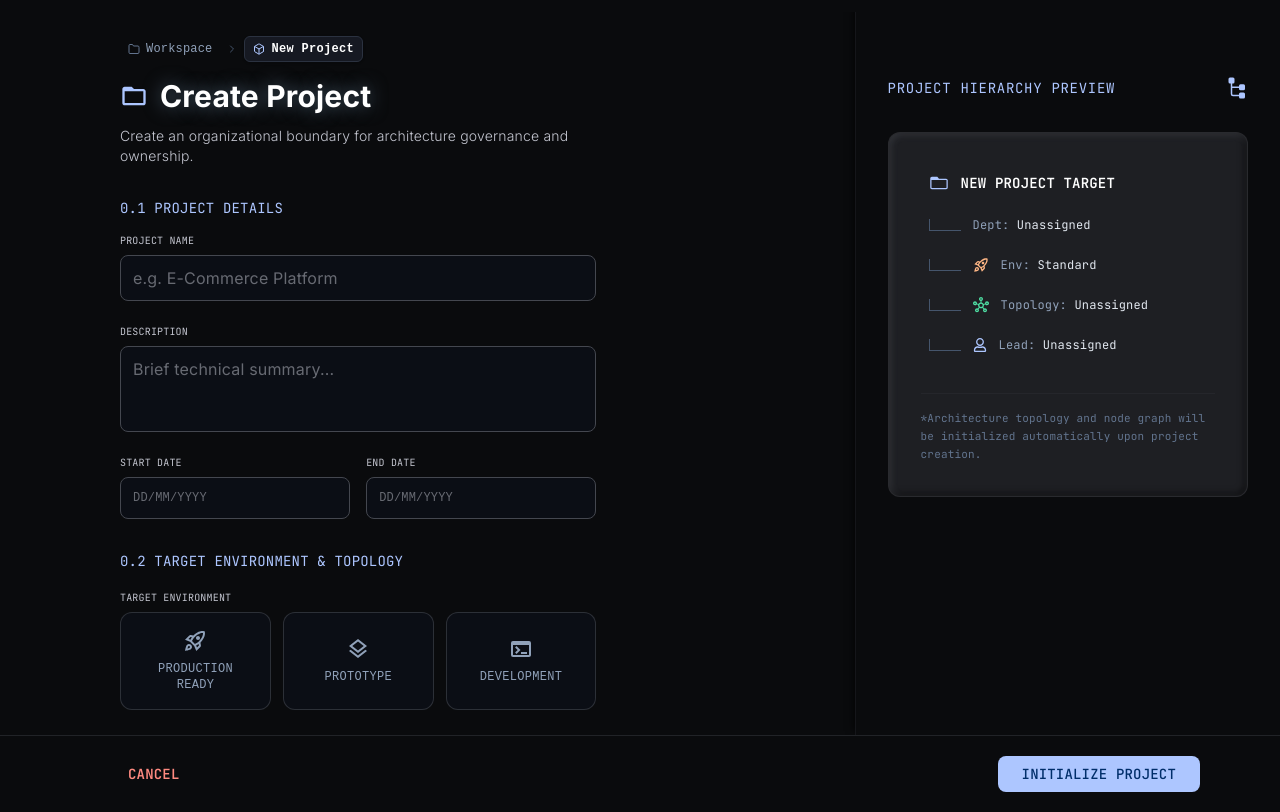
Test: Project Creation Flow › validates required fields on submission
What coordinates should you click on to do the following:
click the button "Initialize Project"
I would click on:
 (1099, 774)
Its box is [998,756,1200,792].
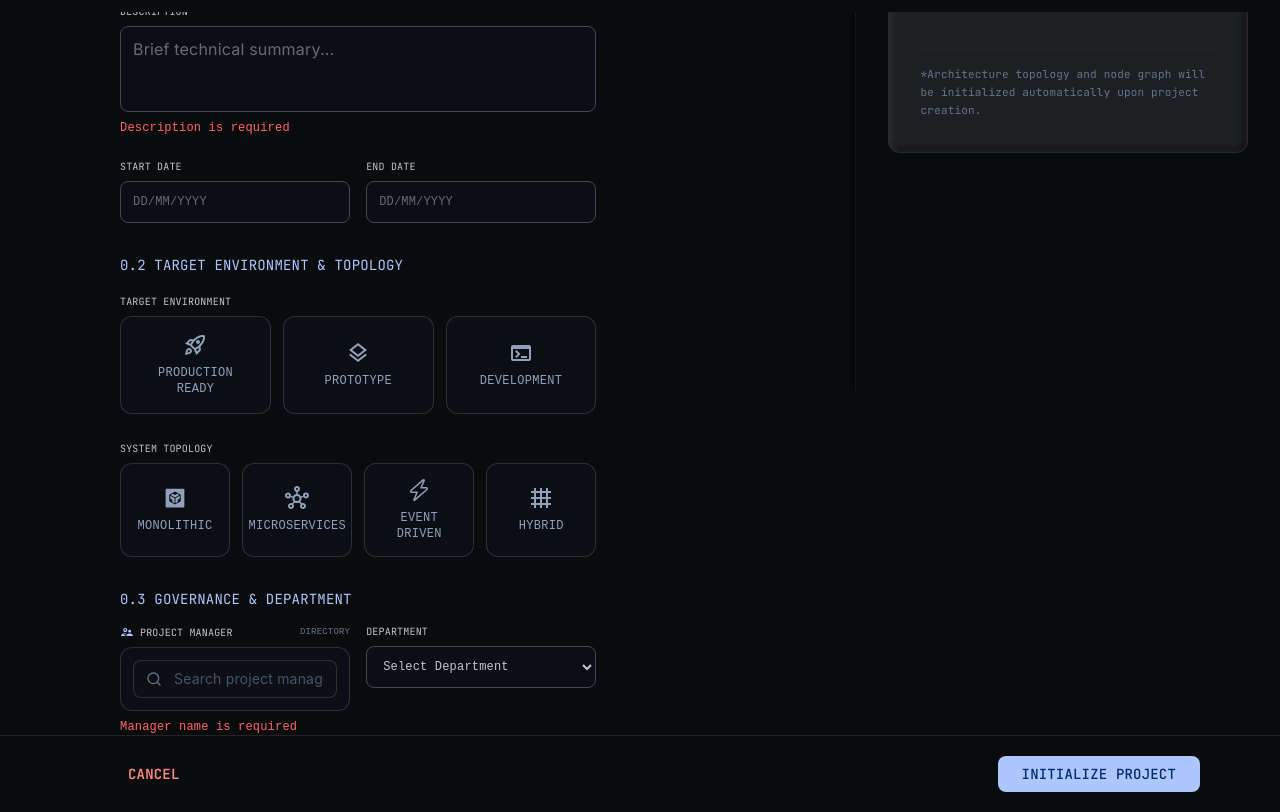
Expected: the text "Description is required" is shown, [120,121,290,135]
Expected: the text "Manager name is required" is shown, [120,720,297,734]
